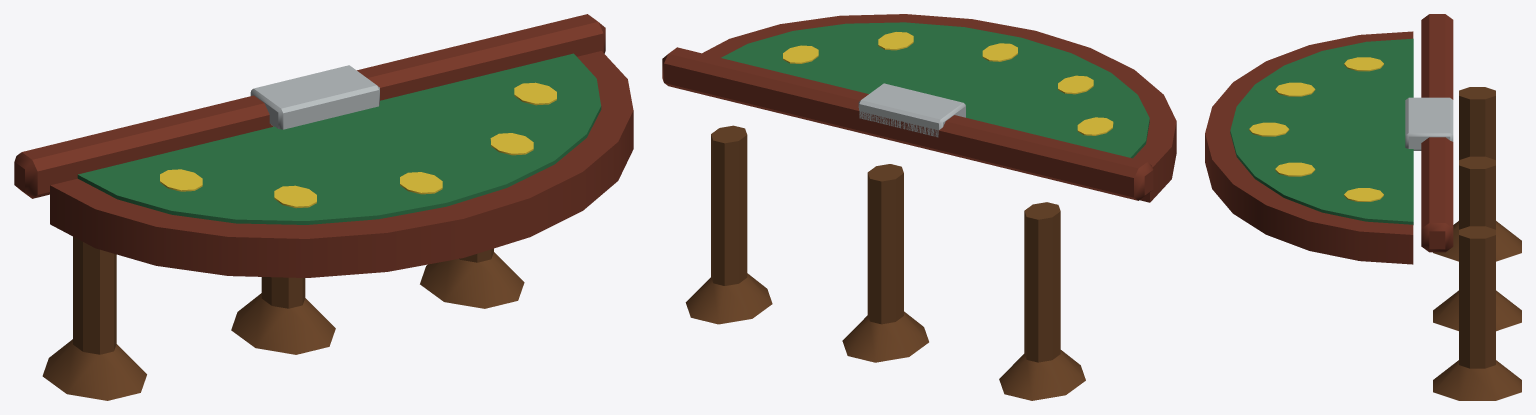
The model's file is 164_table_blackjack.fbx.
The picture shows the model from 3 angles, left to right: view 1: azimuth 30°, elevation 25°; view 2: azimuth 150°, elevation 25°; view 3: azimuth 270°, elevation 25°; orthographic projection. The views are drawn at different scales.
Visible parts, largest first — view 1: Table, Tapis; view 2: Table, Tapis; view 3: Table, Tapis.
Boxes of the visible parts, left/top/right/bottom form: Table: left=14, top=14, right=633, bottom=400; Tapis: left=77, top=53, right=601, bottom=224; Table: left=662, top=14, right=1176, bottom=400; Tapis: left=721, top=22, right=1149, bottom=158; Table: left=1205, top=14, right=1521, bottom=400; Tapis: left=1230, top=38, right=1413, bottom=224.
Bounding box in the file's own units: 2.24 × 0.98 × 1.4.
1 material, 1 textured.
